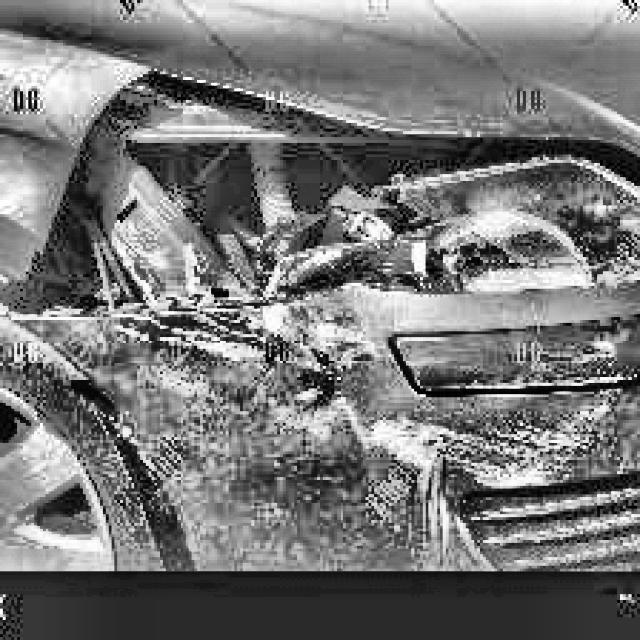head_lamp: (99, 107, 637, 315)
